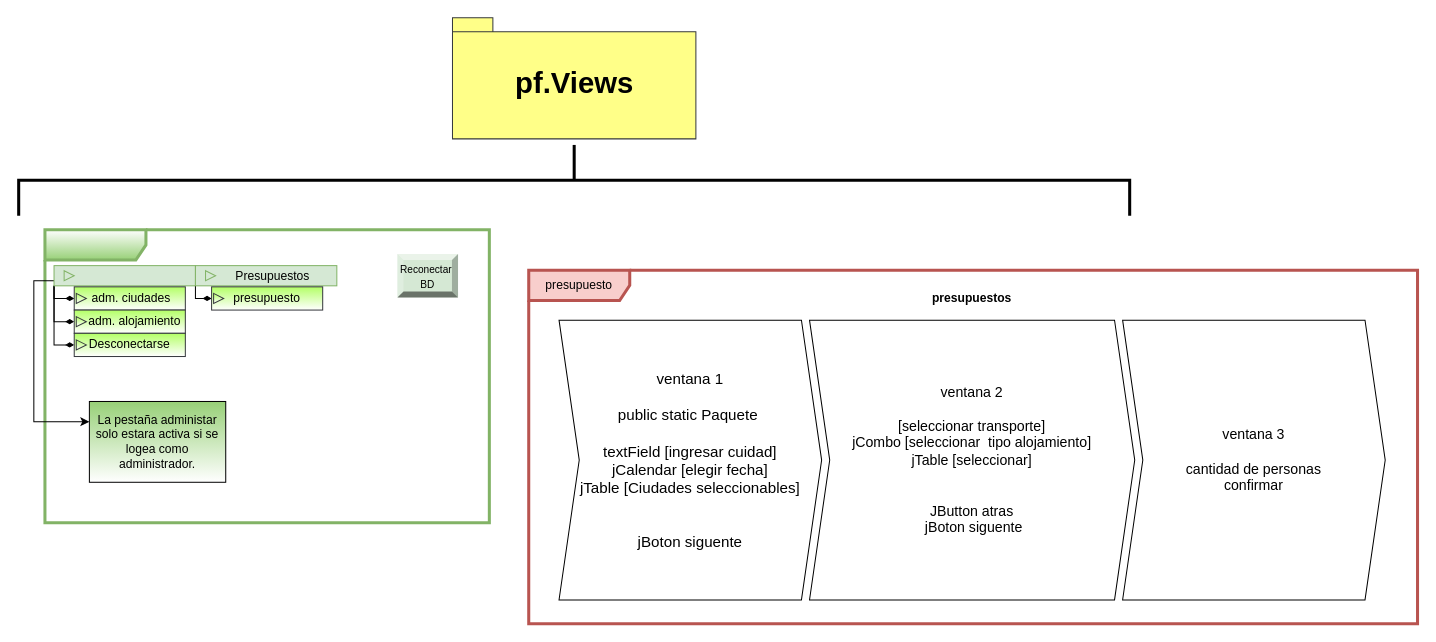
This 1436x642 diagram has some shape labels left out. The box of each missing label's shape, as (x1, y1, x2, y2) in pixels:
Administrar: (53, 265, 195, 286)
Pincipal.java: (43, 228, 490, 524)
